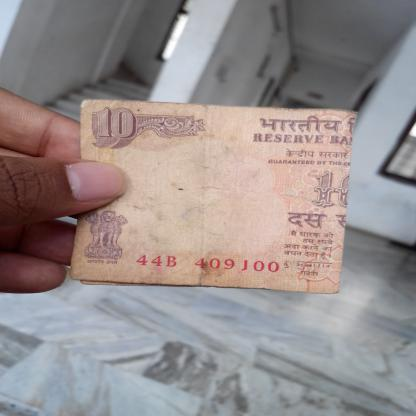Old10Front: (66, 96, 361, 296)
